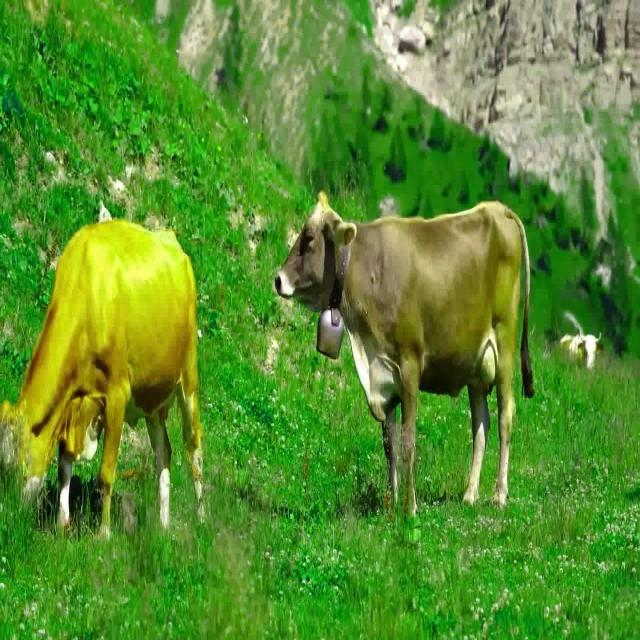cow: (275, 192, 534, 514), (0, 220, 202, 537)
